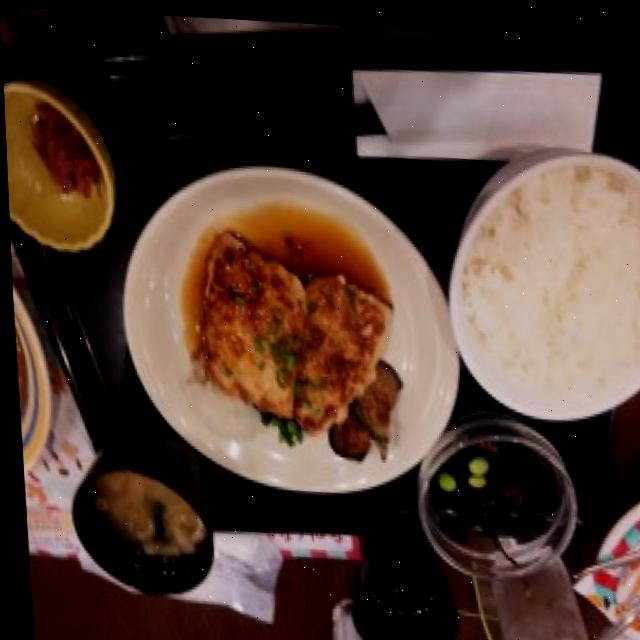米饭主食: (441, 120, 640, 426)
